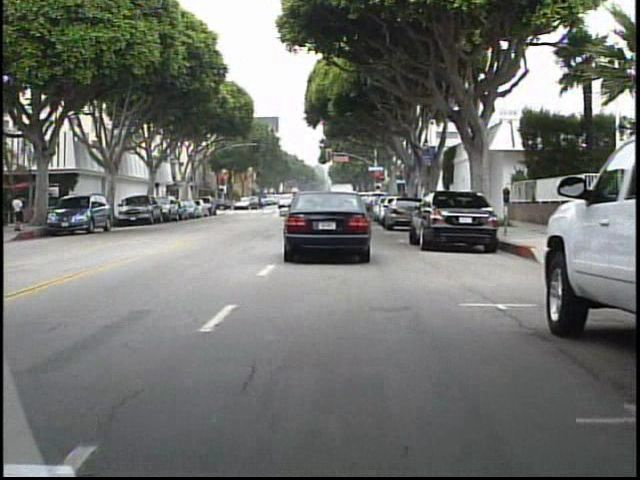person: (12, 191, 31, 234), (256, 191, 269, 215)
